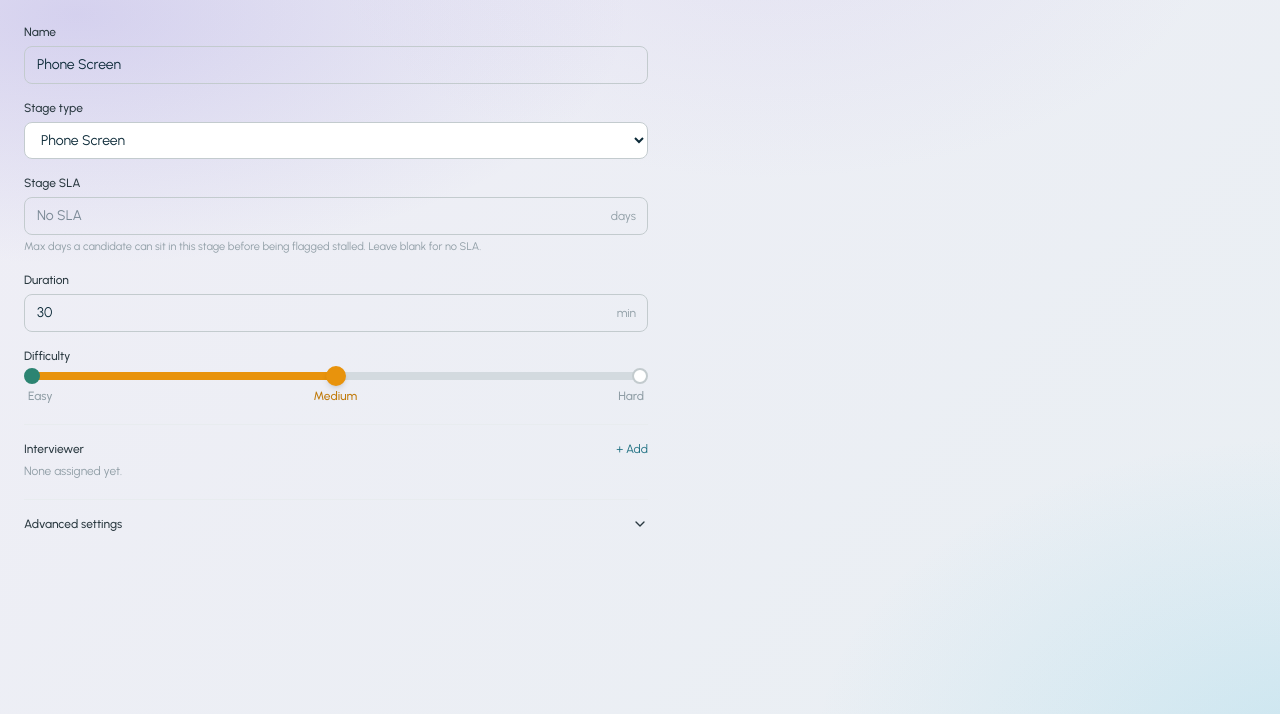
Test case: StageConfigurationTab matrix-driven rendering › phone_screen stage shows full config
This screenshot has width=1280, height=714.
Expected: the number field labelled "Duration" is shown, 24,294 -> 648,332
Expected: the element named "difficulty" is shown, 24,372 -> 648,404
Click the button "Advanced settings" at coordinates (73, 524), box 24,516 -> 648,532
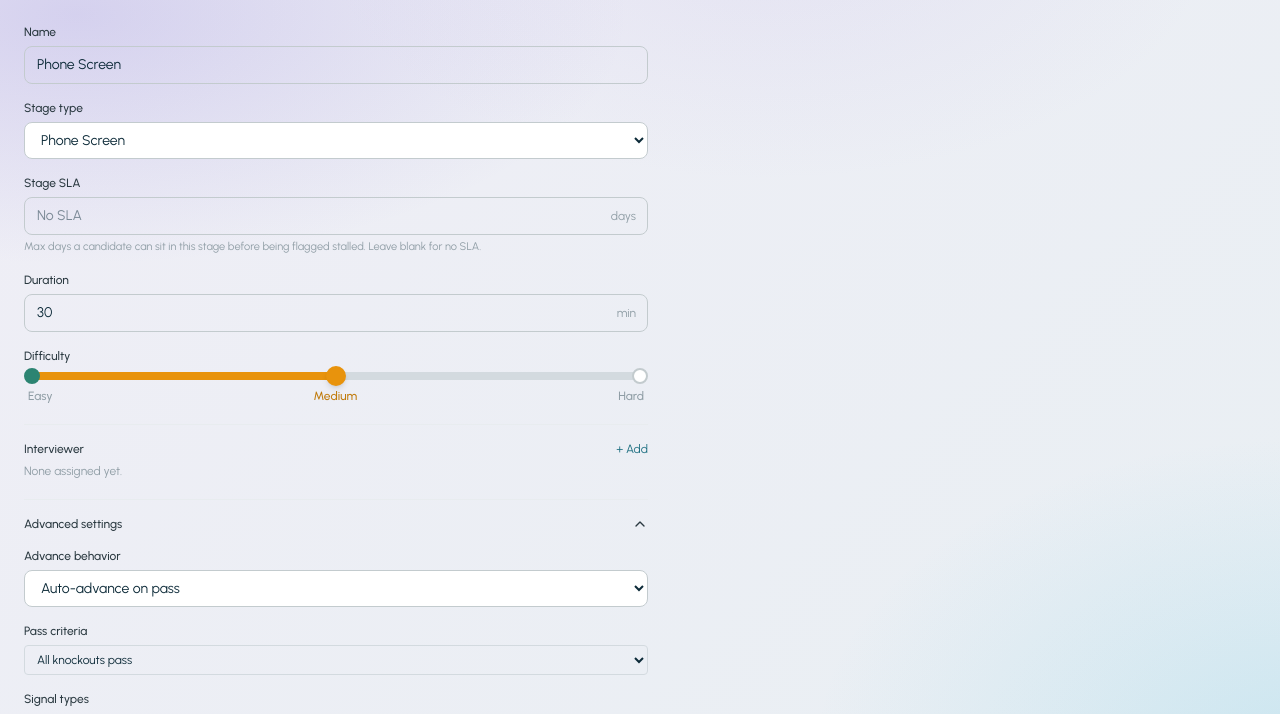
Expected: the text "Pass criteria" is shown, 24,624 -> 87,638
Expected: the dropdown labelled "Advance behavior" is shown, 24,570 -> 648,606
Expected: the text "Signal types" is shown, 24,692 -> 89,706
